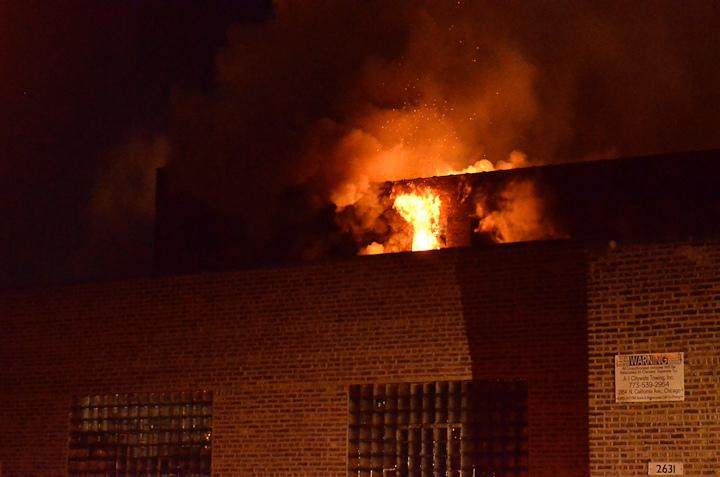fire: (395, 196, 442, 249)
